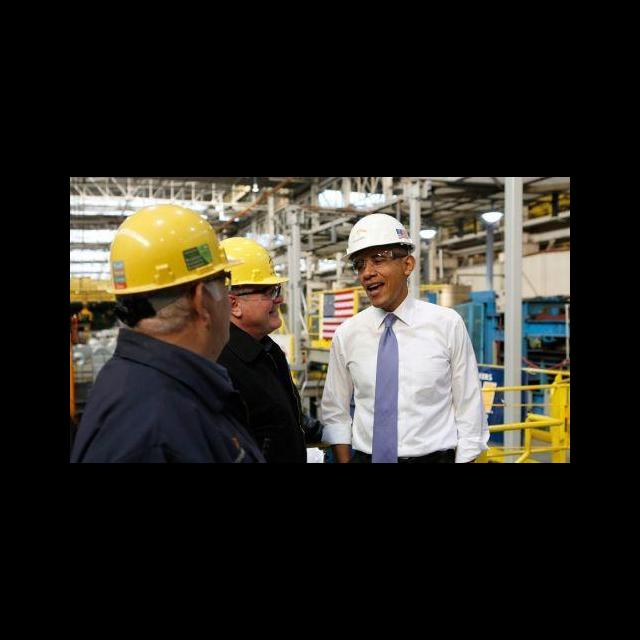Hardhat: (108, 204, 246, 295), (339, 212, 417, 263), (219, 236, 292, 285)
NO-Mask: (362, 268, 406, 308), (240, 302, 282, 332), (211, 290, 232, 347)
NO-Safety Vest: (71, 357, 267, 463), (339, 300, 461, 454), (219, 337, 306, 463)
Person: (71, 202, 264, 463), (319, 213, 489, 463), (217, 235, 324, 463)
